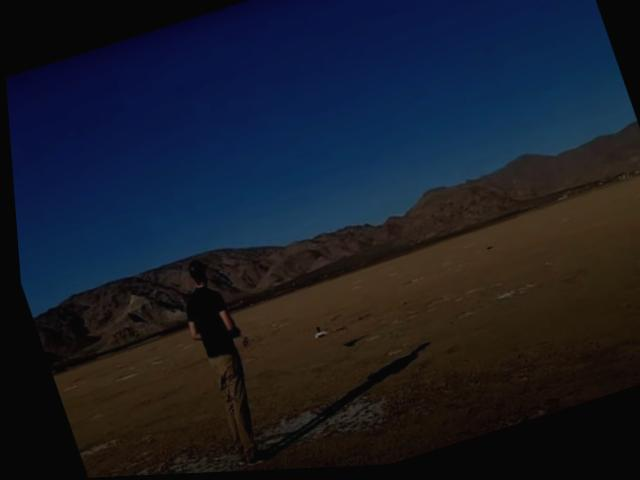iha: (303, 318, 343, 345)
